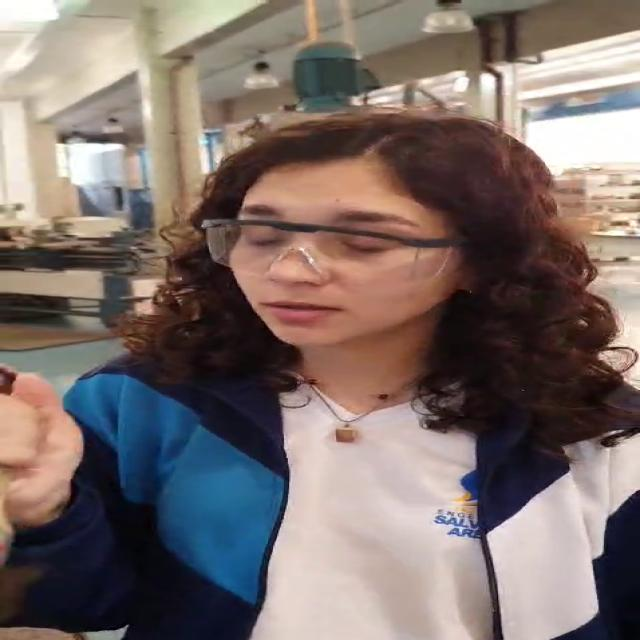oculos-epi: (204, 220, 474, 286)
